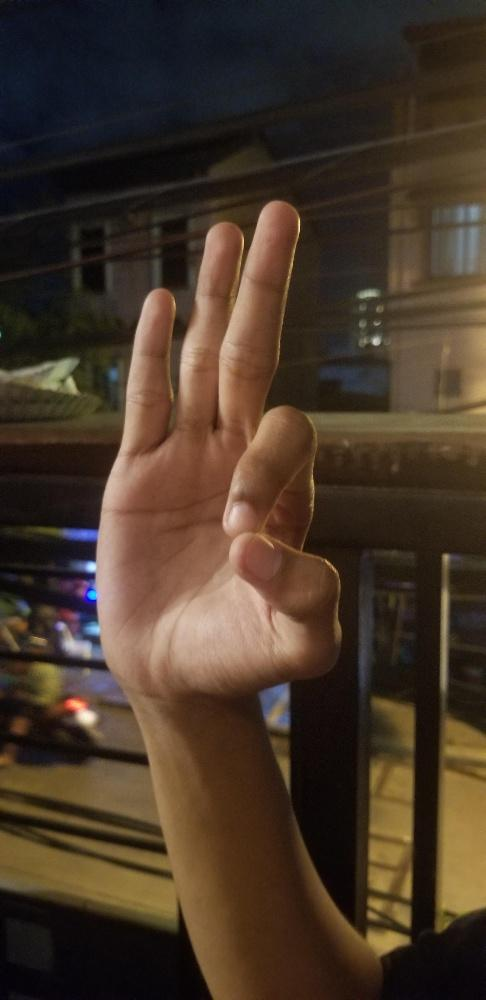f: (94, 197, 340, 698)
